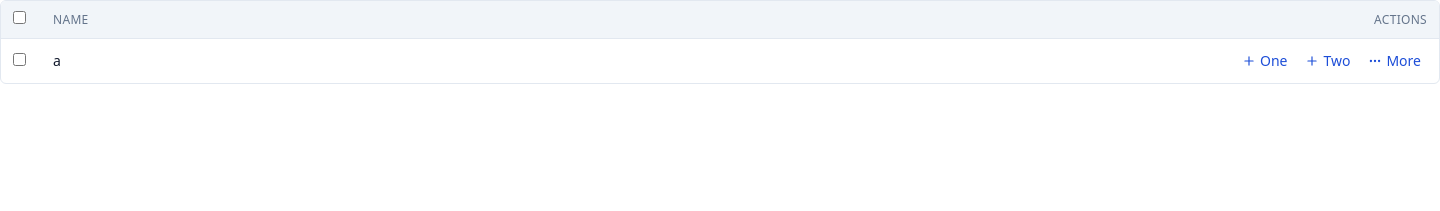
Test: table row actions overflow › shows up to three actions directly and puts the rest in a More menu
Expected: the button "One" is shown, [1236,47,1294,75]
Expected: the button "Two" is shown, [1299,47,1356,75]
Click the button "More" at (1395, 61), box [1362,47,1427,75]
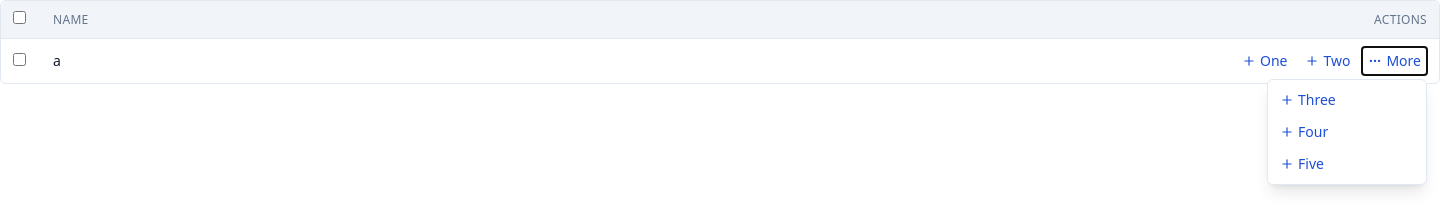
Expected: the button "Three" is shown, [1272,84,1422,116]
Expected: the button "Five" is shown, [1272,148,1422,180]
Press Escape
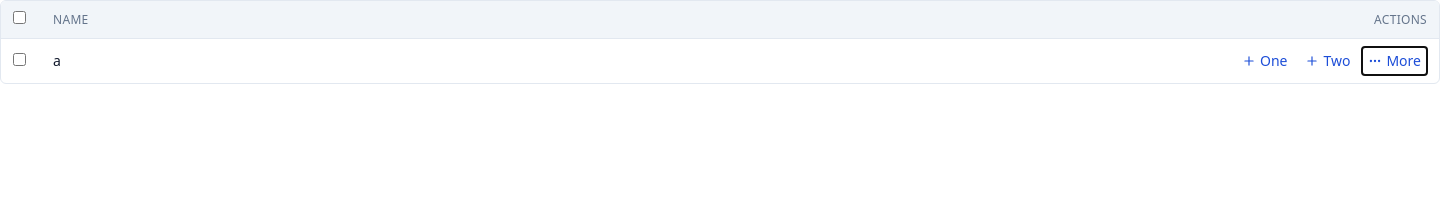
Expected: the button "Three" is gone
